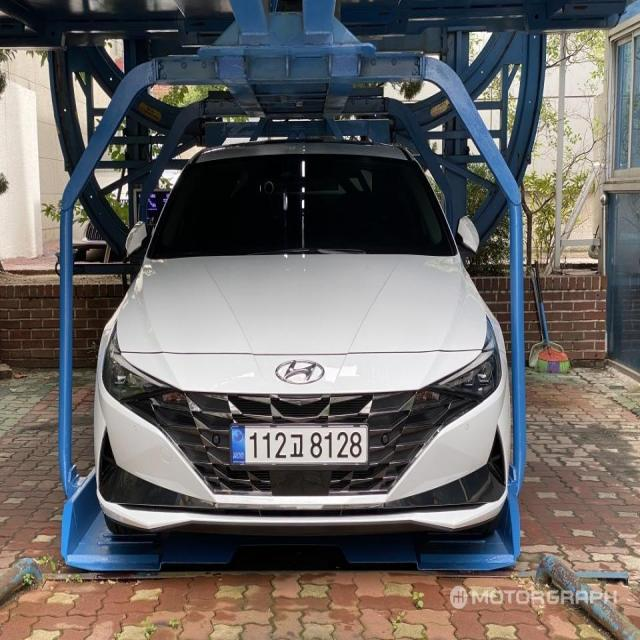car: (88, 134, 519, 556)
illegal_plate: (227, 424, 371, 471)
